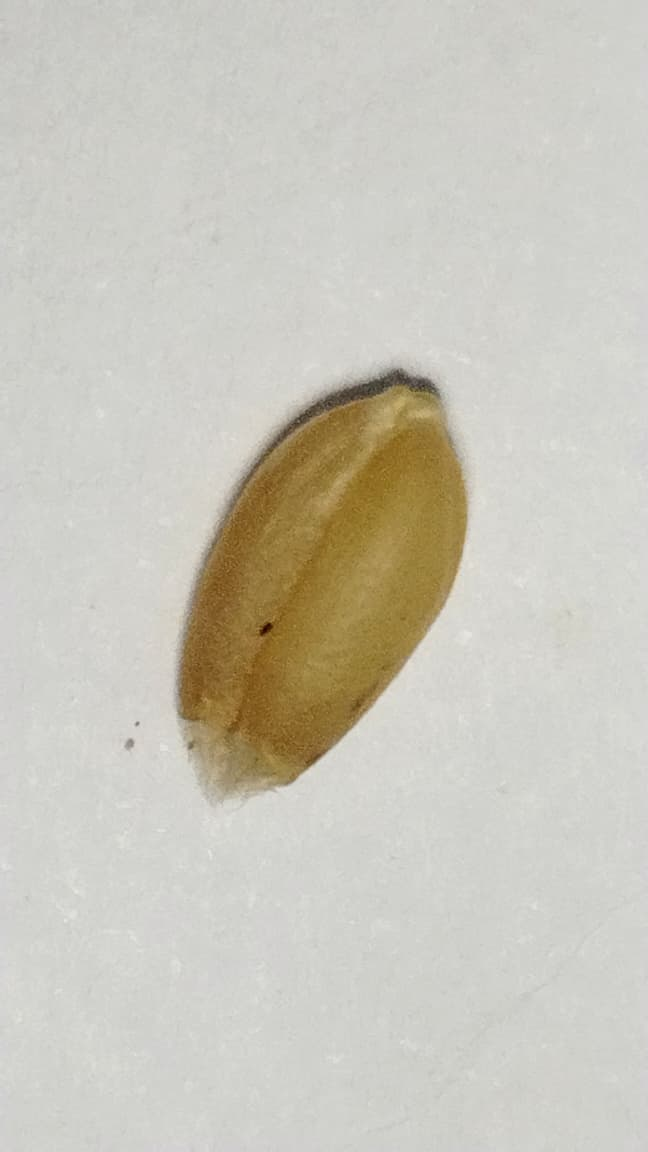healthy: (182, 374, 466, 788)
